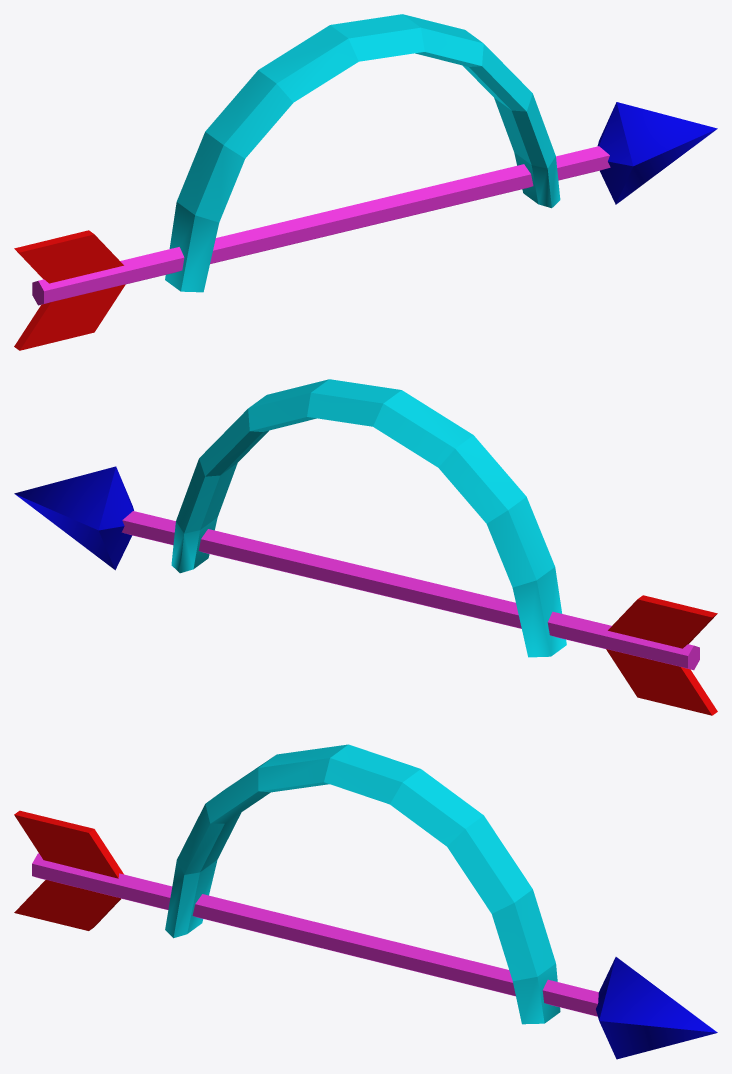
File: Arrow.fbx
3 renders of one model, top to bottom at view 1: azimuth 30°, elevation 25°; view 2: azimuth 150°, elevation 25°; view 3: azimuth 330°, elevation 25°, orthographic.
Parts seen in each view (by area): view 1: polySurface1161; view 2: polySurface1161; view 3: polySurface1161.
Boxes of the visible parts, box(x1,y1,x2,y2) form: polySurface1161: box(14, 14, 717, 350); polySurface1161: box(14, 379, 717, 715); polySurface1161: box(14, 744, 717, 1059).
Bounding box in the file's own units: 15971 × 5245 × 1386.
